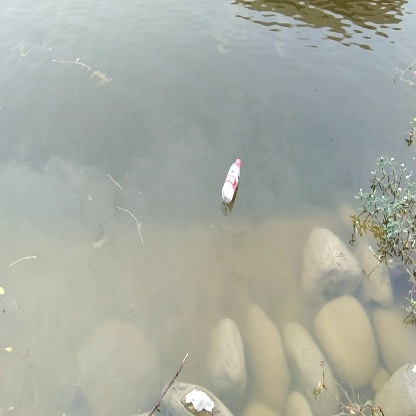bottle: (219, 157, 245, 206)
